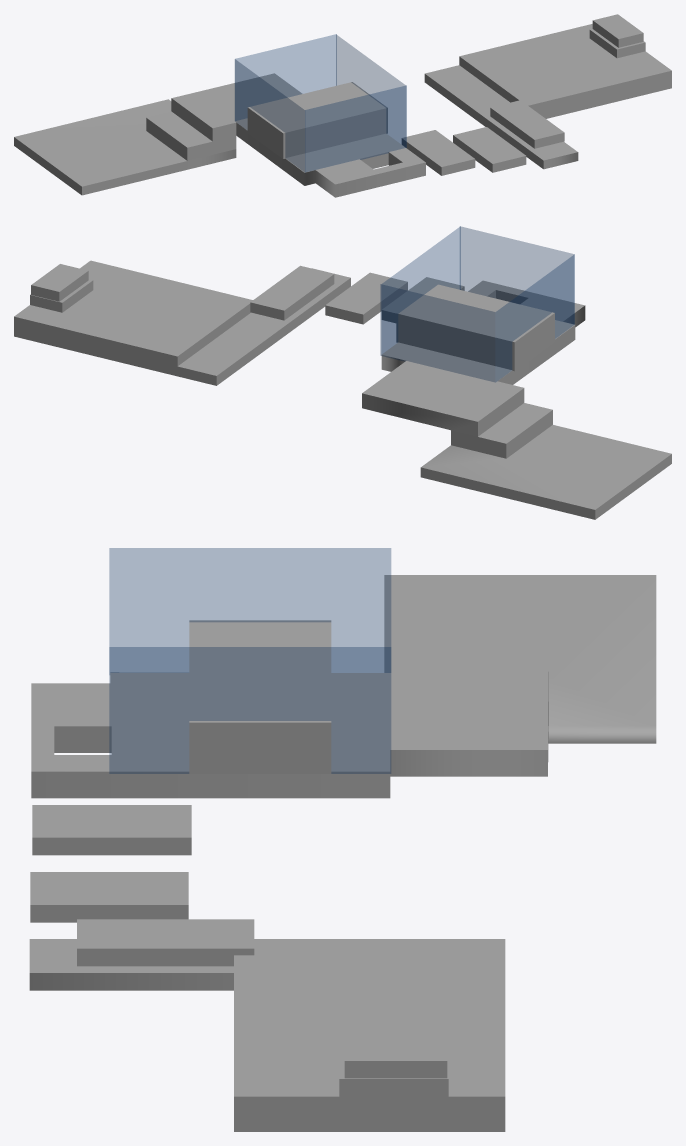
Rendered from ground.fbx.
The picture shows the model from 3 angles, top to bottom: view 1: azimuth 30°, elevation 25°; view 2: azimuth 150°, elevation 25°; view 3: azimuth 270°, elevation 25°; orthographic projection. The views are drawn at different scales.
Visible parts, largest first — view 1: pasted__pCube2, pCube4, enemy, wall2, wall4, wall1, wall3, camera, pCube3, pCube2, area; view 2: pasted__pCube2, pCube4, enemy, wall4, wall2, wall1, wall3, camera, pCube3, area, pCube2; view 3: pasted__pCube2, pCube4, wall3, wall1, enemy, camera, pCube2, pCube3, area.
Boxes of the visible parts, box(x1,y1,x2,y2) form: pasted__pCube2: box(14, 73, 425, 197); pCube4: box(424, 24, 671, 169); enemy: box(247, 82, 387, 158); wall2: box(305, 85, 406, 171); wall4: box(235, 34, 336, 120); wall1: box(235, 59, 304, 171); wall3: box(336, 35, 405, 146); camera: box(490, 100, 564, 148); pCube3: box(453, 127, 526, 172); pCube2: box(401, 130, 475, 175); area: box(592, 14, 643, 47); pasted__pCube2: box(362, 280, 671, 519); pCube4: box(14, 260, 350, 385); enemy: box(396, 284, 554, 371); wall4: box(380, 284, 494, 381); wall2: box(460, 226, 573, 323); wall1: box(495, 254, 574, 381); wall3: box(381, 226, 460, 353); camera: box(250, 265, 334, 320); pCube3: box(325, 272, 407, 324); area: box(31, 264, 88, 301); pCube2: box(381, 277, 464, 323); pasted__pCube2: box(31, 575, 656, 798); pCube4: box(29, 939, 505, 1131); wall3: box(109, 647, 390, 773); wall1: box(109, 548, 390, 672); enemy: box(189, 620, 331, 773); camera: box(77, 919, 254, 966); pCube2: box(32, 805, 191, 855); pCube3: box(30, 872, 188, 922); area: box(344, 1036, 447, 1078).
Size of the model in its own units: 65.47 by 11.07 by 32.15.
